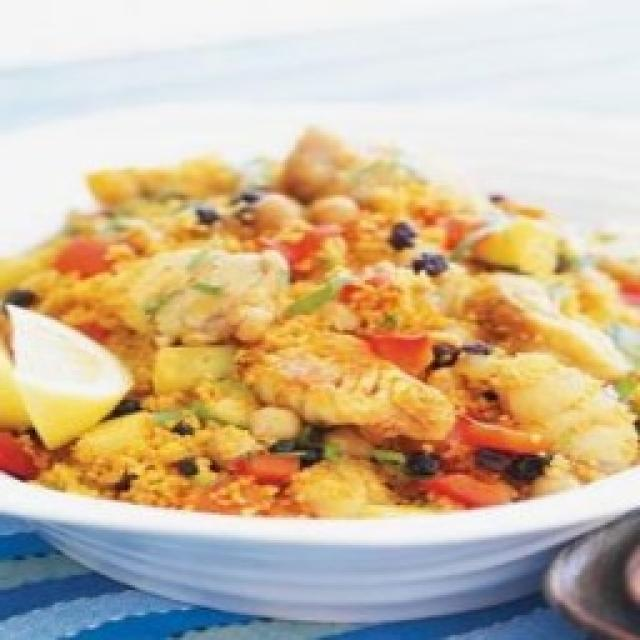Couscous: (0, 128, 640, 628)
